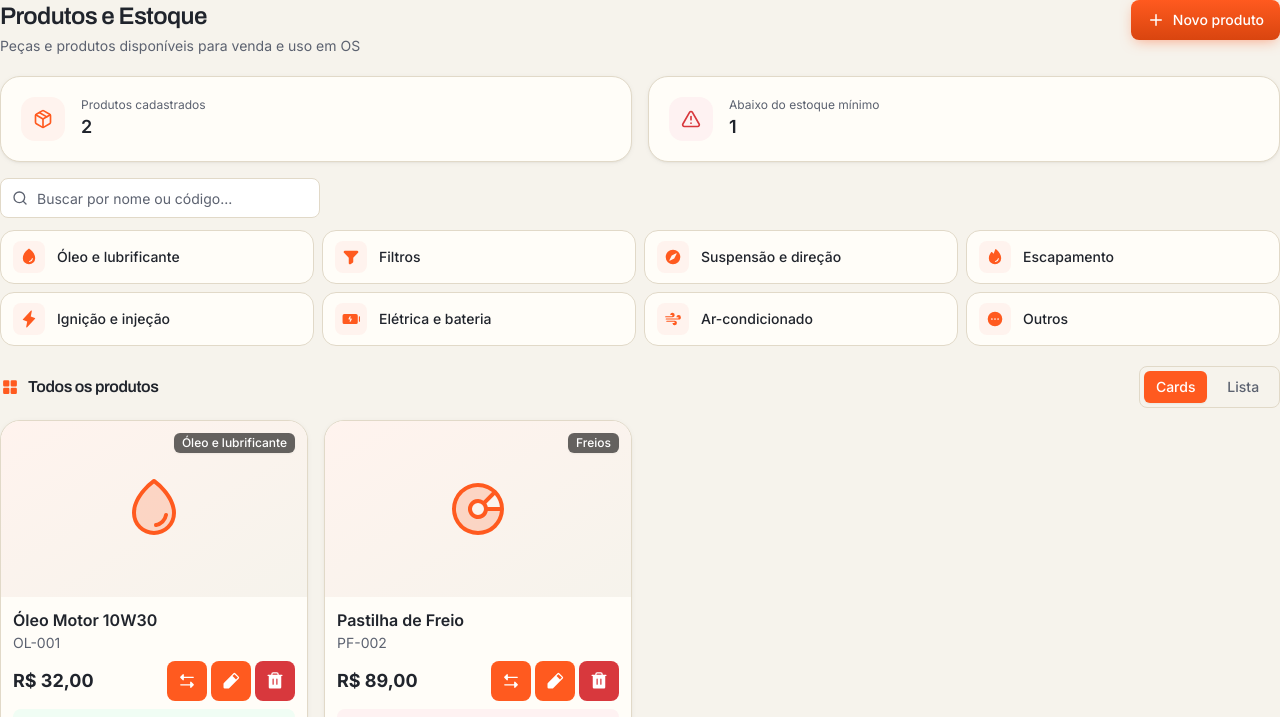
it: ProdutosPage › opens the create modal from "Novo produto"
Click the button "Novo produto" at (1205, 20), box [1131, 0, 1279, 40]
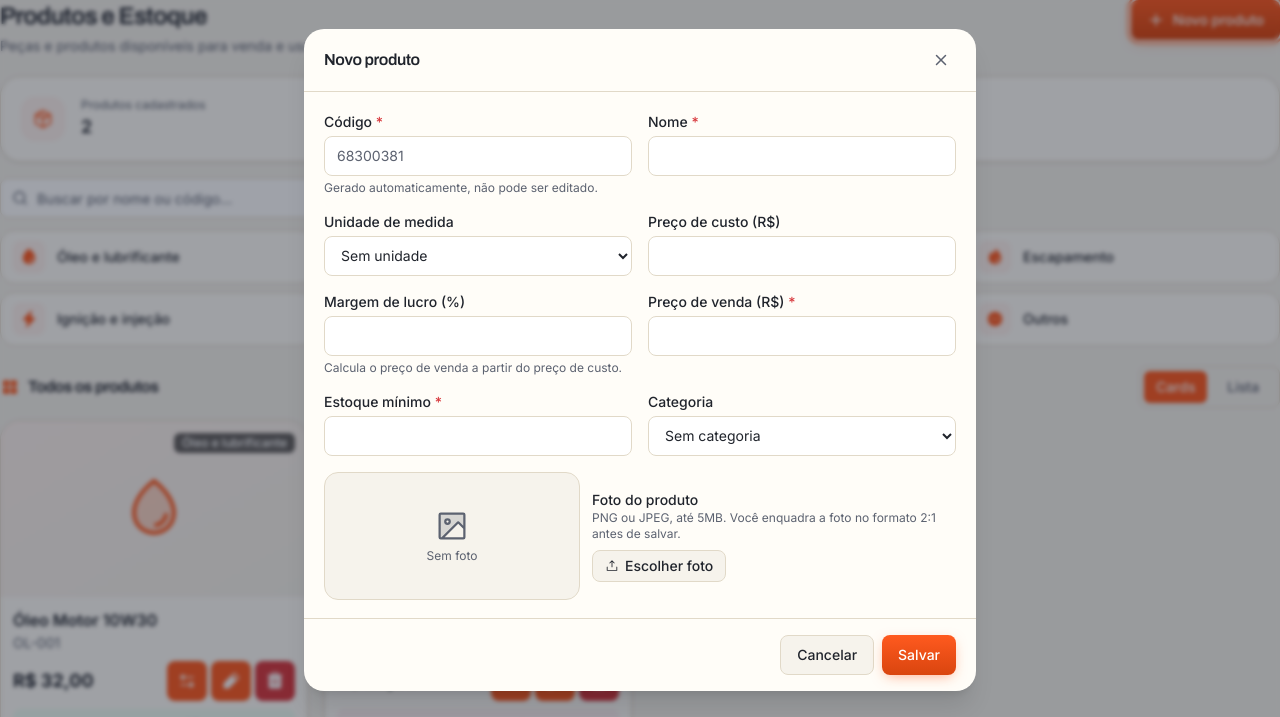
Expected: the heading "Novo produto" is shown, [324, 48, 420, 72]
